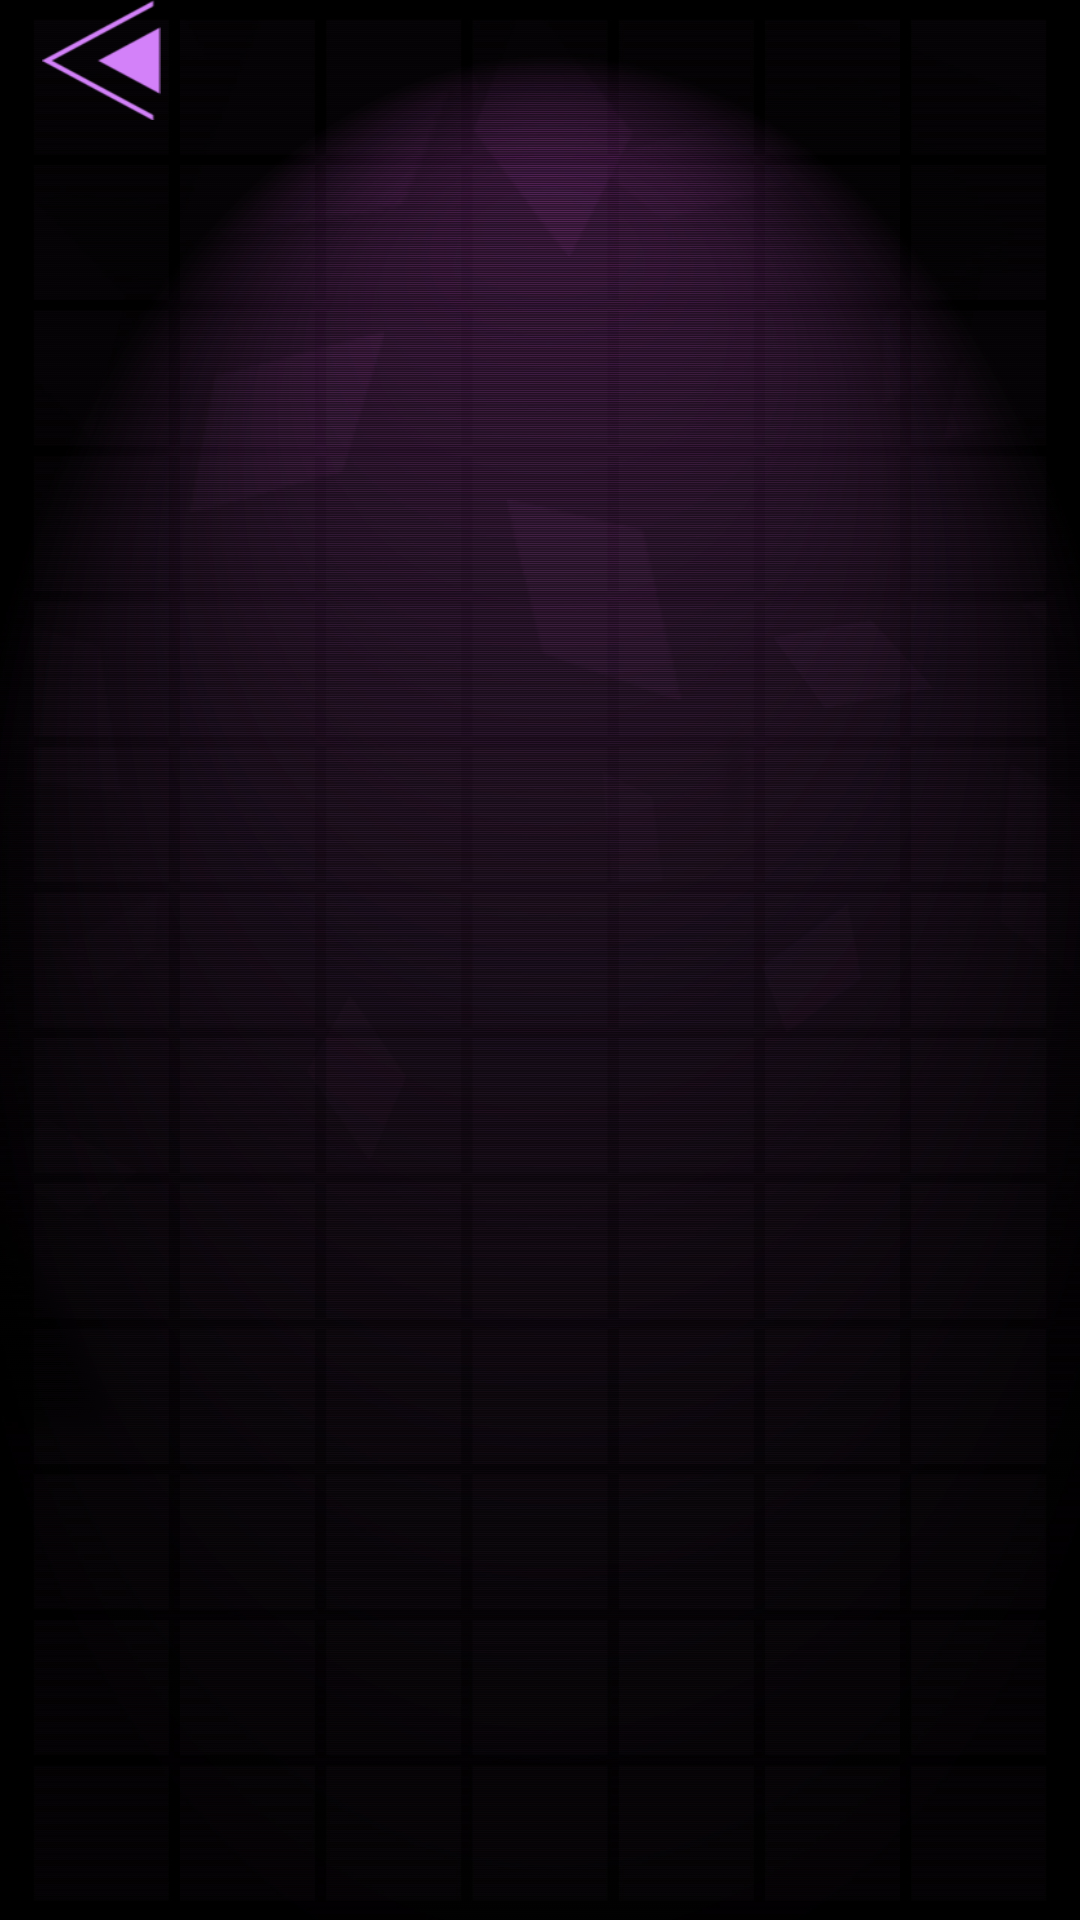

Screen size 1080 × 1920. Icon name, then its box in pixels as (x1, y1, x2, y2):
back: (42, 1, 161, 120)
